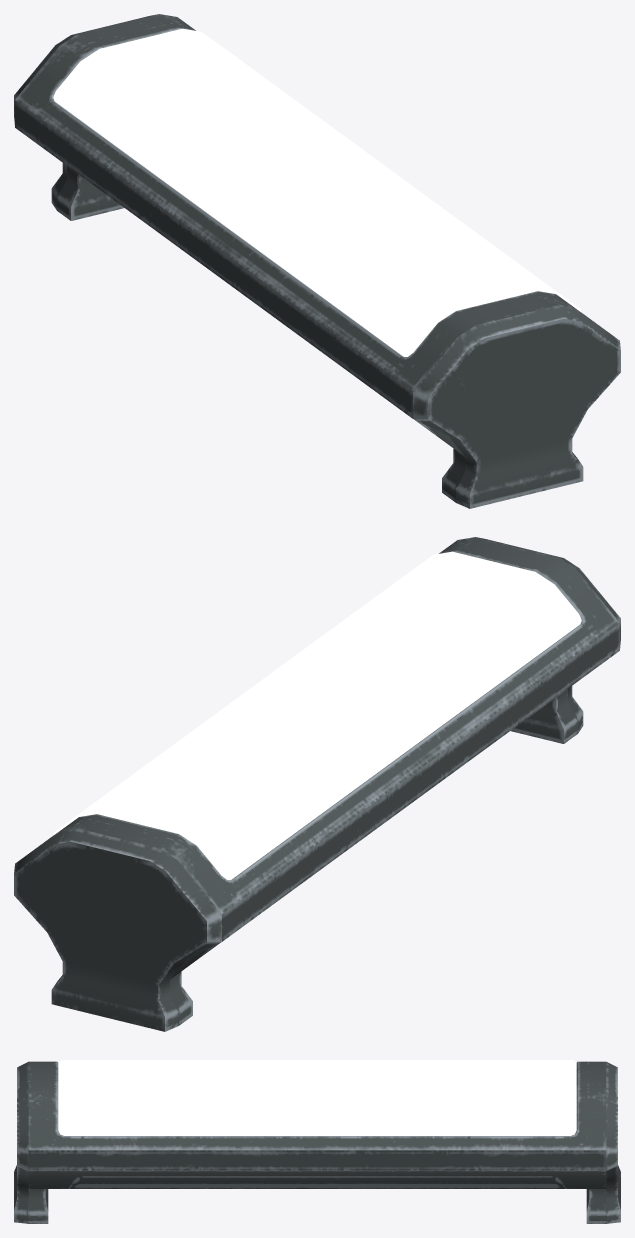
Rendered from rgblight.glb.
3 views of the same model, one above another, from view 1: azimuth 30°, elevation 25°; view 2: azimuth 150°, elevation 25°; view 3: azimuth 270°, elevation 25° (orthographic). The views are drawn at different scales.
Parts seen in each view (by area): view 1: Light_11; view 2: Light_11; view 3: Light_11.
Boxes of the visible parts, bbox=[...] form: Light_11: bbox=[14, 14, 620, 508]; Light_11: bbox=[14, 537, 620, 1031]; Light_11: bbox=[14, 1060, 620, 1223].
Size of the model in its own units: 30 by 24.13 by 105.
Materials: 2 (1 with a texture image).
